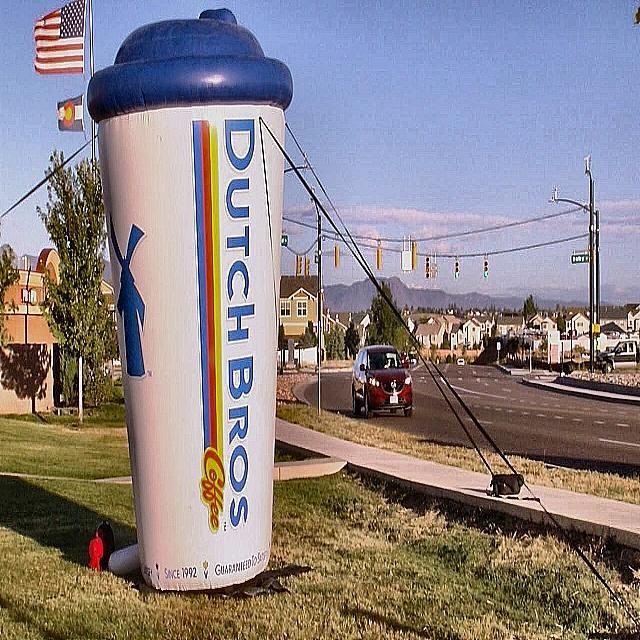paper_cup: (80, 8, 296, 598)
